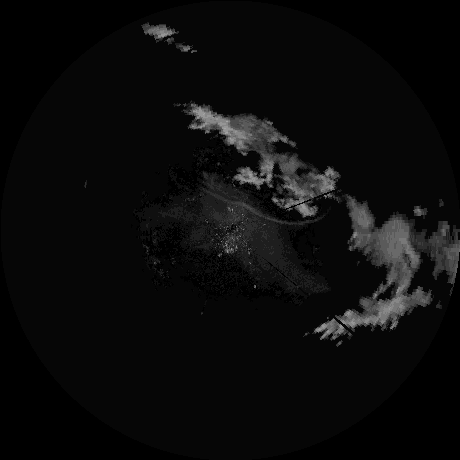frontgust: (201, 186, 317, 226)
